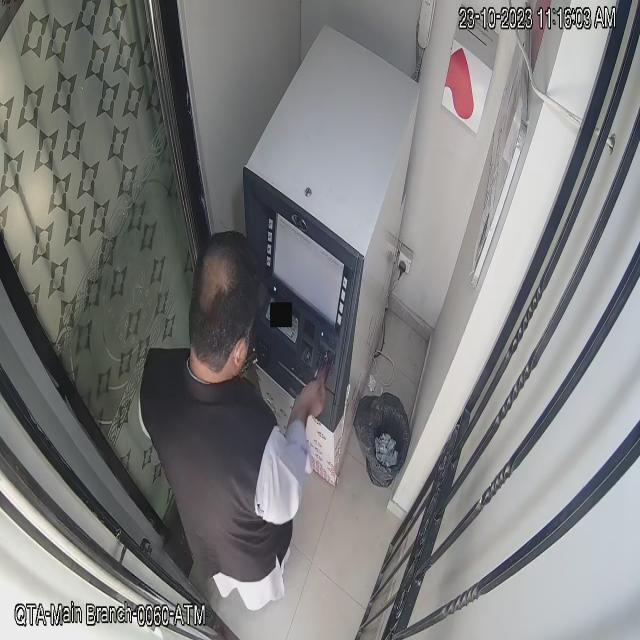atm-card: (310, 342, 336, 389)
